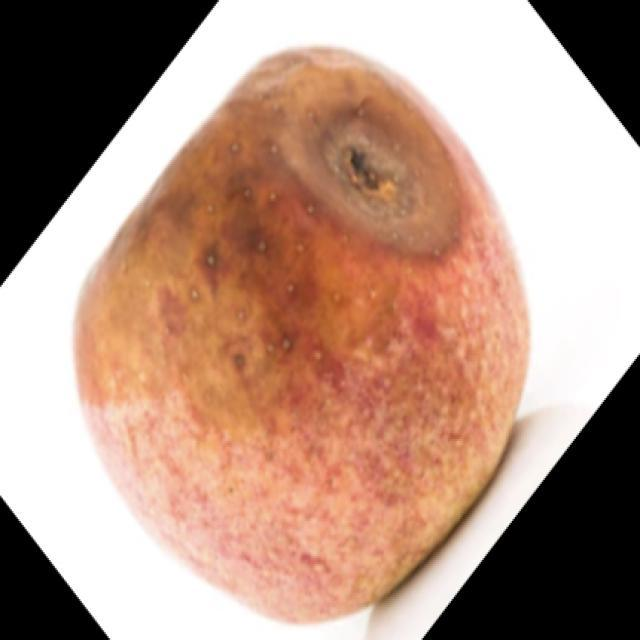Rotten: (68, 43, 545, 625)
